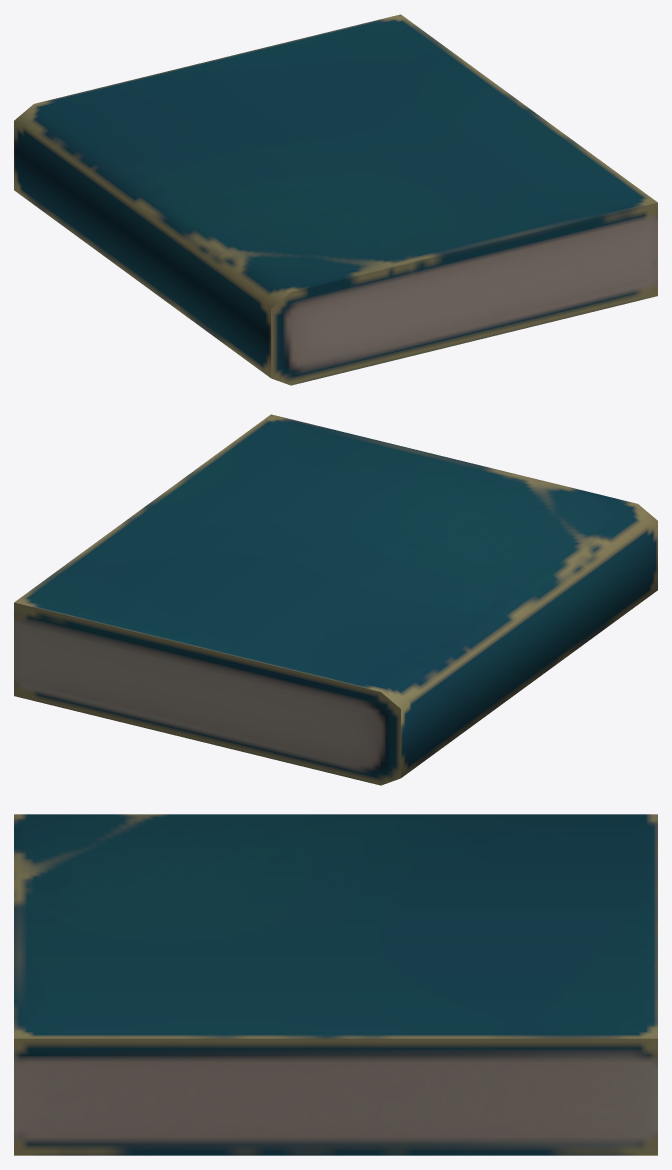
The model's file is P_Book_A.FBX.
The picture shows the model from 3 angles, top to bottom: view 1: azimuth 30°, elevation 25°; view 2: azimuth 150°, elevation 25°; view 3: azimuth 270°, elevation 25°; orthographic projection. The views are drawn at different scales.
Visible parts, largest first — view 1: P_Book_A; view 2: P_Book_A; view 3: P_Book_A.
Boxes of the visible parts, left/top/right/bottom form: P_Book_A: left=14, top=14, right=657, bottom=385; P_Book_A: left=14, top=414, right=657, bottom=785; P_Book_A: left=14, top=814, right=657, bottom=1155.
Bounding box in the file's own units: 30.04 × 6.94 × 34.58.
Materials: 1 (1 with a texture image).
